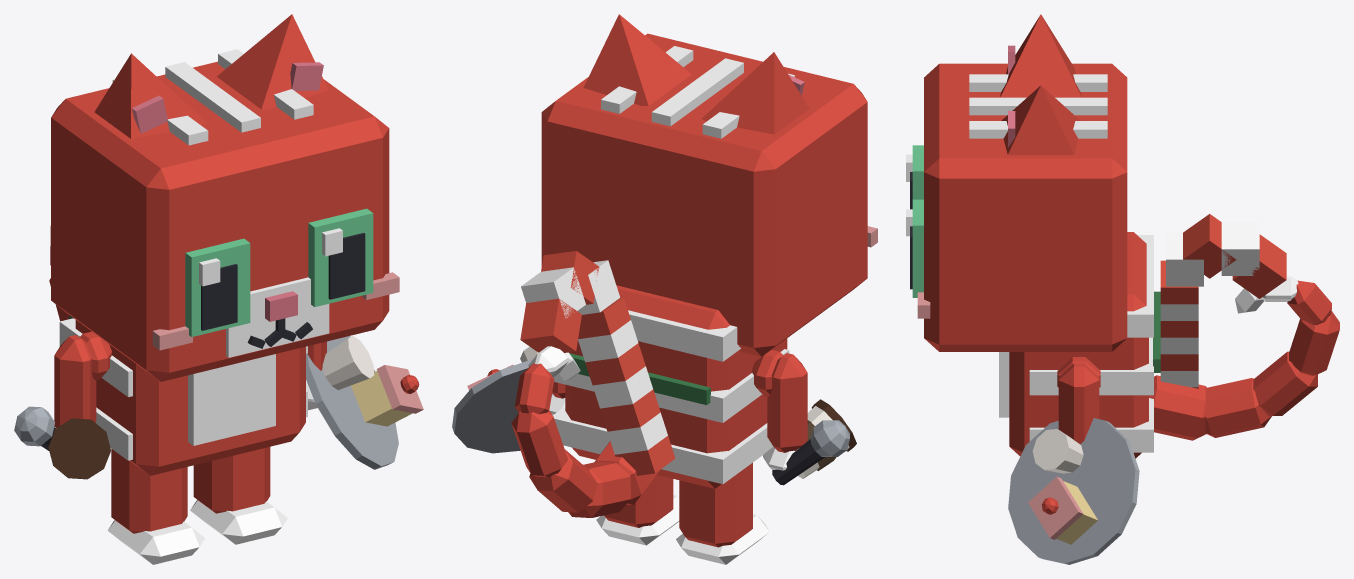
Rendered from CatCafe_Cat_CandyCane_Work.fbx.
3 views of the same model, side by side, from view 1: azimuth 30°, elevation 25°; view 2: azimuth 150°, elevation 25°; view 3: azimuth 270°, elevation 25° (orthographic). The views are drawn at different scales.
Visible parts, largest first — view 1: CatCafe_Cat_CandyCane_Work_Head, CatCafe_Cat_CandyCane_Work_Body, CatCafe_Cat_CandyCane_Work_Held_Waiter, CatCafe_Cat_CandyCane_Work_LegB2, CatCafe_Cat_CandyCane_Work_LegB1, CatCafe_Cat_CandyCane_Work_Eye2, CatCafe_Cat_CandyCane_Work_Eye1, CatCafe_Cat_CandyCane_Work_EarL, CatCafe_Cat_CandyCane_Work_EarR, CatCafe_Cat_CandyCane_Work_LegF2, CatCafe_Cat_CandyCane_Work_Held_Barista, CatCafe_Cat_CandyCane_Work_Held_Entertainer (+1 smaller); view 2: CatCafe_Cat_CandyCane_Work_Head, CatCafe_Cat_CandyCane_Work_Body, CatCafe_Cat_CandyCane_Work_Prop, CatCafe_Cat_CandyCane_Work_Tail, CatCafe_Cat_CandyCane_Work_LegB2, CatCafe_Cat_CandyCane_Work_EarL, CatCafe_Cat_CandyCane_Work_Held_Waiter, CatCafe_Cat_CandyCane_Work_EarR, CatCafe_Cat_CandyCane_Work_LegF2, CatCafe_Cat_CandyCane_Work_LegB1, CatCafe_Cat_CandyCane_Work_Held_Entertainer, CatCafe_Cat_CandyCane_Work_Held_Barista; view 3: CatCafe_Cat_CandyCane_Work_Head, CatCafe_Cat_CandyCane_Work_Held_Waiter, CatCafe_Cat_CandyCane_Work_Body, CatCafe_Cat_CandyCane_Work_Tail, CatCafe_Cat_CandyCane_Work_Prop, CatCafe_Cat_CandyCane_Work_EarR, CatCafe_Cat_CandyCane_Work_EarL, CatCafe_Cat_CandyCane_Work_LegF1, CatCafe_Cat_CandyCane_Work_Eye1, CatCafe_Cat_CandyCane_Work_Eye2.
Boxes of the visible parts, box(x1,y1,x2,y2) form: CatCafe_Cat_CandyCane_Work_Head: box(51, 49, 399, 381); CatCafe_Cat_CandyCane_Work_Body: box(59, 318, 307, 475); CatCafe_Cat_CandyCane_Work_Held_Waiter: box(306, 335, 423, 469); CatCafe_Cat_CandyCane_Work_LegB2: box(107, 449, 205, 564); CatCafe_Cat_CandyCane_Work_LegB1: box(190, 447, 287, 544); CatCafe_Cat_CandyCane_Work_Eye2: box(185, 238, 250, 336); CatCafe_Cat_CandyCane_Work_Eye1: box(308, 208, 373, 306); CatCafe_Cat_CandyCane_Work_EarL: box(216, 14, 328, 109); CatCafe_Cat_CandyCane_Work_EarR: box(94, 53, 206, 138); CatCafe_Cat_CandyCane_Work_LegF2: box(54, 335, 96, 427); CatCafe_Cat_CandyCane_Work_Held_Barista: box(48, 418, 110, 479); CatCafe_Cat_CandyCane_Work_Held_Entertainer: box(14, 406, 55, 450); CatCafe_Cat_CandyCane_Work_Head: box(541, 33, 877, 356); CatCafe_Cat_CandyCane_Work_Body: box(553, 285, 789, 488); CatCafe_Cat_CandyCane_Work_Prop: box(520, 251, 710, 475); CatCafe_Cat_CandyCane_Work_Tail: box(511, 346, 659, 517); CatCafe_Cat_CandyCane_Work_LegB2: box(676, 462, 769, 564); CatCafe_Cat_CandyCane_Work_EarL: box(583, 14, 691, 105); CatCafe_Cat_CandyCane_Work_Held_Waiter: box(452, 346, 538, 453); CatCafe_Cat_CandyCane_Work_EarR: box(701, 52, 809, 134); CatCafe_Cat_CandyCane_Work_LegF2: box(763, 353, 807, 470); CatCafe_Cat_CandyCane_Work_LegB1: box(596, 475, 679, 545); CatCafe_Cat_CandyCane_Work_Held_Entertainer: box(772, 420, 849, 485); CatCafe_Cat_CandyCane_Work_Held_Barista: box(797, 399, 856, 478); CatCafe_Cat_CandyCane_Work_Head: box(917, 63, 1127, 351); CatCafe_Cat_CandyCane_Work_Held_Waiter: box(1008, 418, 1139, 564); CatCafe_Cat_CandyCane_Work_Body: box(999, 232, 1153, 458); CatCafe_Cat_CandyCane_Work_Tail: box(1149, 275, 1339, 440); CatCafe_Cat_CandyCane_Work_Prop: box(1153, 214, 1286, 388); CatCafe_Cat_CandyCane_Work_EarR: box(1000, 14, 1081, 97); CatCafe_Cat_CandyCane_Work_EarL: box(1001, 85, 1080, 154); CatCafe_Cat_CandyCane_Work_LegF1: box(1058, 363, 1099, 444); CatCafe_Cat_CandyCane_Work_Eye1: box(906, 199, 923, 297); CatCafe_Cat_CandyCane_Work_Eye2: box(906, 145, 923, 209).
Size of the model in its own units: 1.53 by 1.93 by 1.62.
1 material, 1 textured.
